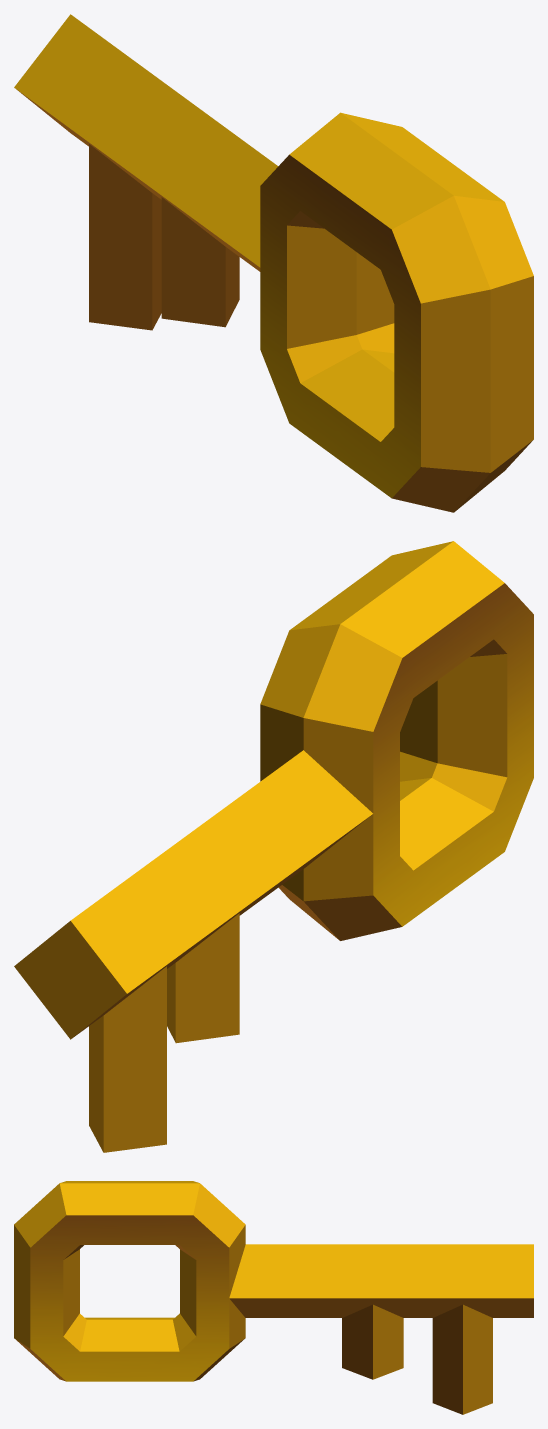
Rendered from m_deco_keyGold.FBX.
3 views of the same model, one above another, from view 1: azimuth 30°, elevation 25°; view 2: azimuth 150°, elevation 25°; view 3: azimuth 270°, elevation 25° (orthographic). The views are drawn at different scales.
Visible parts, largest first — view 1: m_deco_keyGold; view 2: m_deco_keyGold; view 3: m_deco_keyGold.
Boxes of the visible parts, left/top/right/bottom form: m_deco_keyGold: left=14, top=14, right=533, bottom=512; m_deco_keyGold: left=14, top=541, right=533, bottom=1152; m_deco_keyGold: left=14, top=1181, right=533, bottom=1414.
Size of the model in its own units: 0.1629 by 0.4891 by 1.05.
